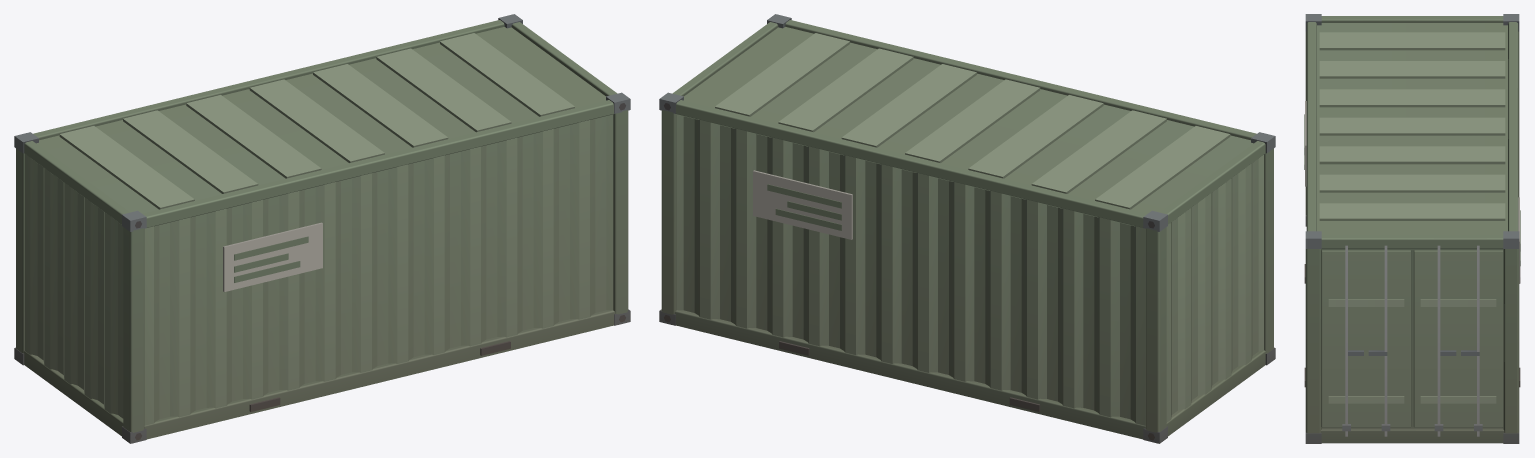
Rendered from box_green.glb.
3 renders of one model, left to right at view 1: azimuth 30°, elevation 25°; view 2: azimuth 150°, elevation 25°; view 3: azimuth 270°, elevation 25°, orthographic. The views are drawn at different scales.
Size of the model in its own units: 6.1 by 2.59 by 2.47.
